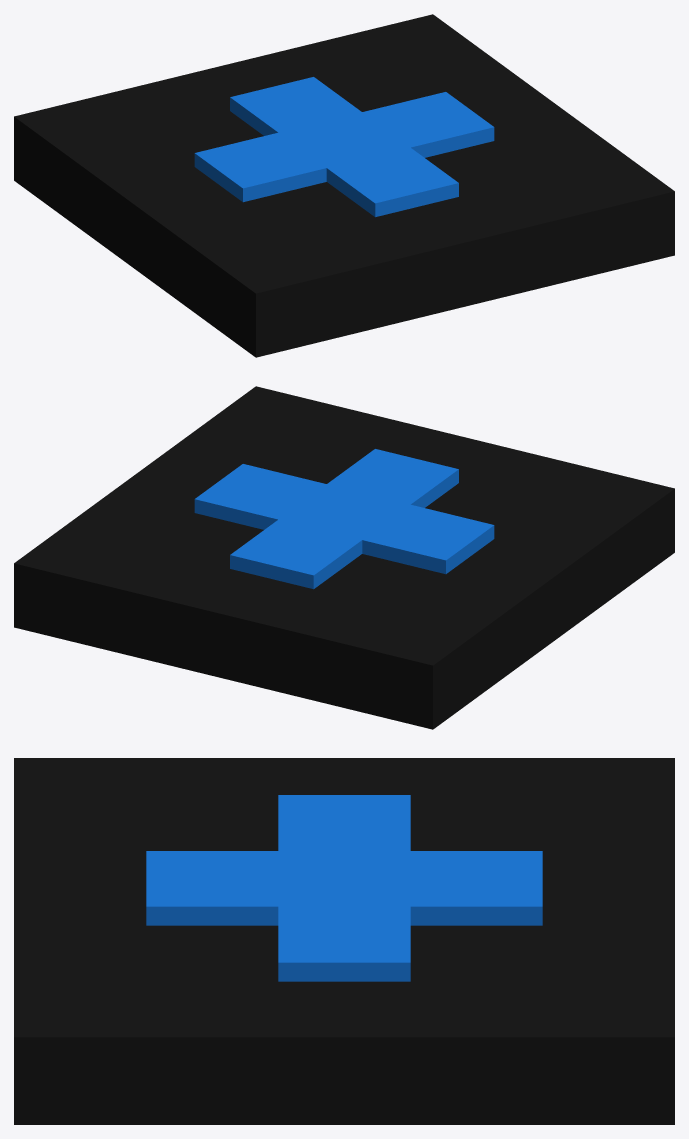
File: PlusButton.fbx
3 views of the same model, one above another, from view 1: azimuth 30°, elevation 25°; view 2: azimuth 150°, elevation 25°; view 3: azimuth 270°, elevation 25° (orthographic). The views are drawn at different scales.
Parts seen in each view (by area): view 1: Plus; view 2: Plus; view 3: Plus.
Part boxes in pixels (left/top/right/bottom): Plus: left=14, top=14, right=674, bottom=357; Plus: left=14, top=386, right=674, bottom=729; Plus: left=14, top=758, right=674, bottom=1124.
Size of the model in its own units: 33.75 by 6 by 33.75.
